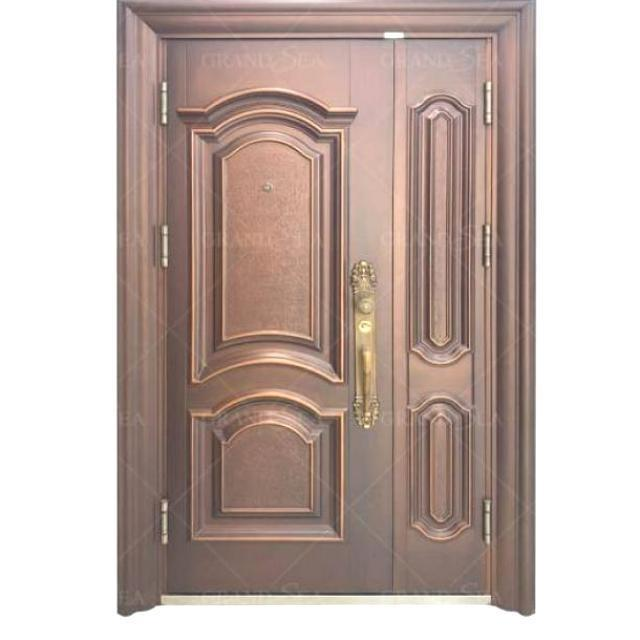door: (150, 22, 400, 604)
